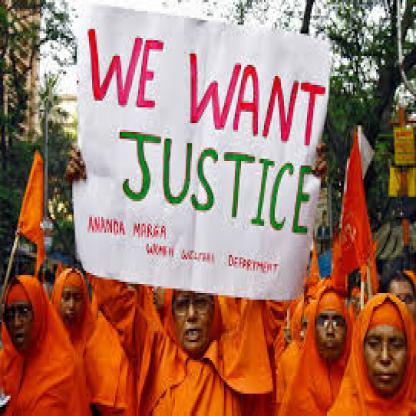BANNER: (71, 7, 332, 304)
